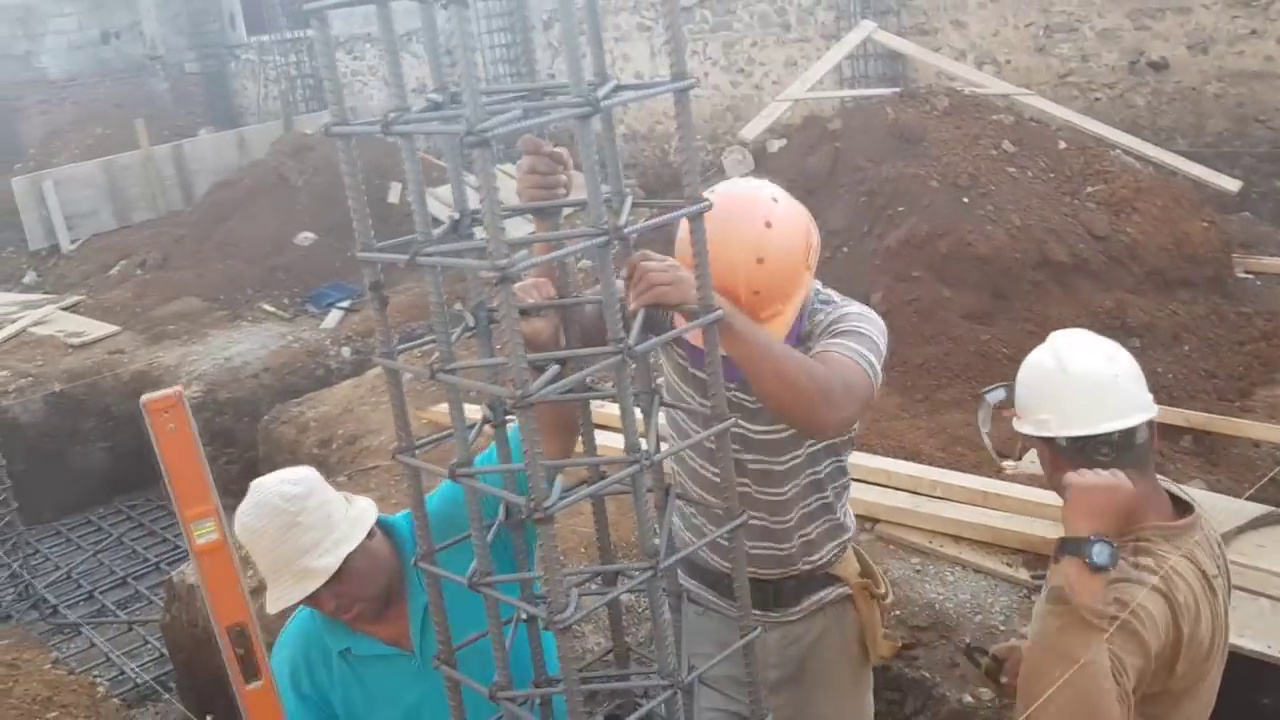helmet: (660, 176, 820, 331), (1013, 334, 1162, 456)
helmet-off: (231, 468, 385, 637)
helmet-on: (1016, 327, 1195, 560), (649, 168, 823, 384)
person: (517, 141, 889, 717), (208, 272, 576, 717), (957, 327, 1234, 718)
